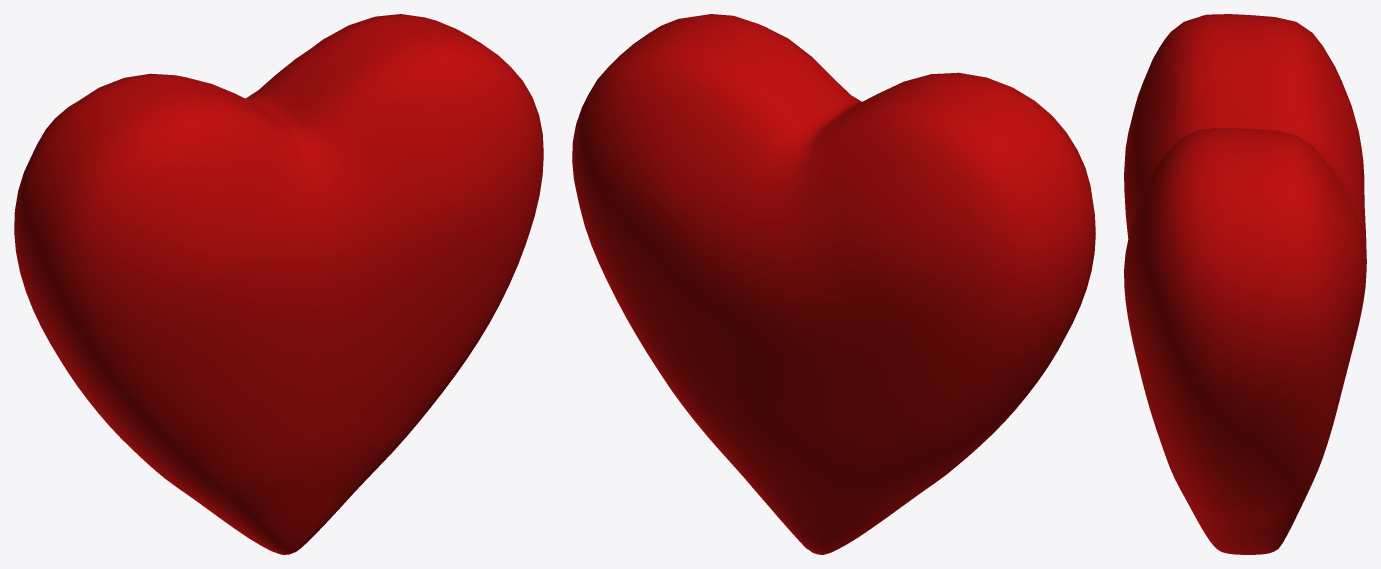
The model's file is heart.fbx.
3 renders of one model, left to right at view 1: azimuth 30°, elevation 25°; view 2: azimuth 150°, elevation 25°; view 3: azimuth 270°, elevation 25°, orthographic. The views are drawn at different scales.
Parts seen in each view (by area): view 1: Group8879; view 2: Group8879; view 3: Group8879.
Part boxes in pixels (bbox=[...]): Group8879: bbox=[14, 14, 543, 554]; Group8879: bbox=[572, 14, 1095, 554]; Group8879: bbox=[1124, 14, 1366, 554].
Size of the model in its own units: 21.12 by 20.14 by 9.46.
